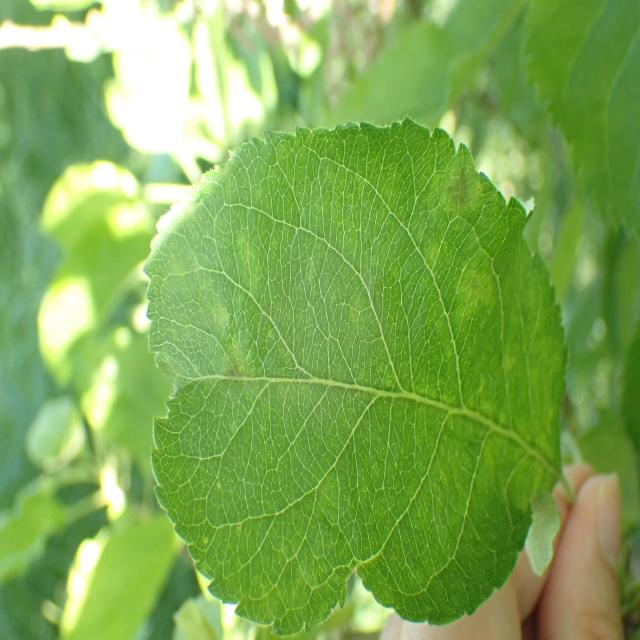scab: (169, 153, 546, 589)
